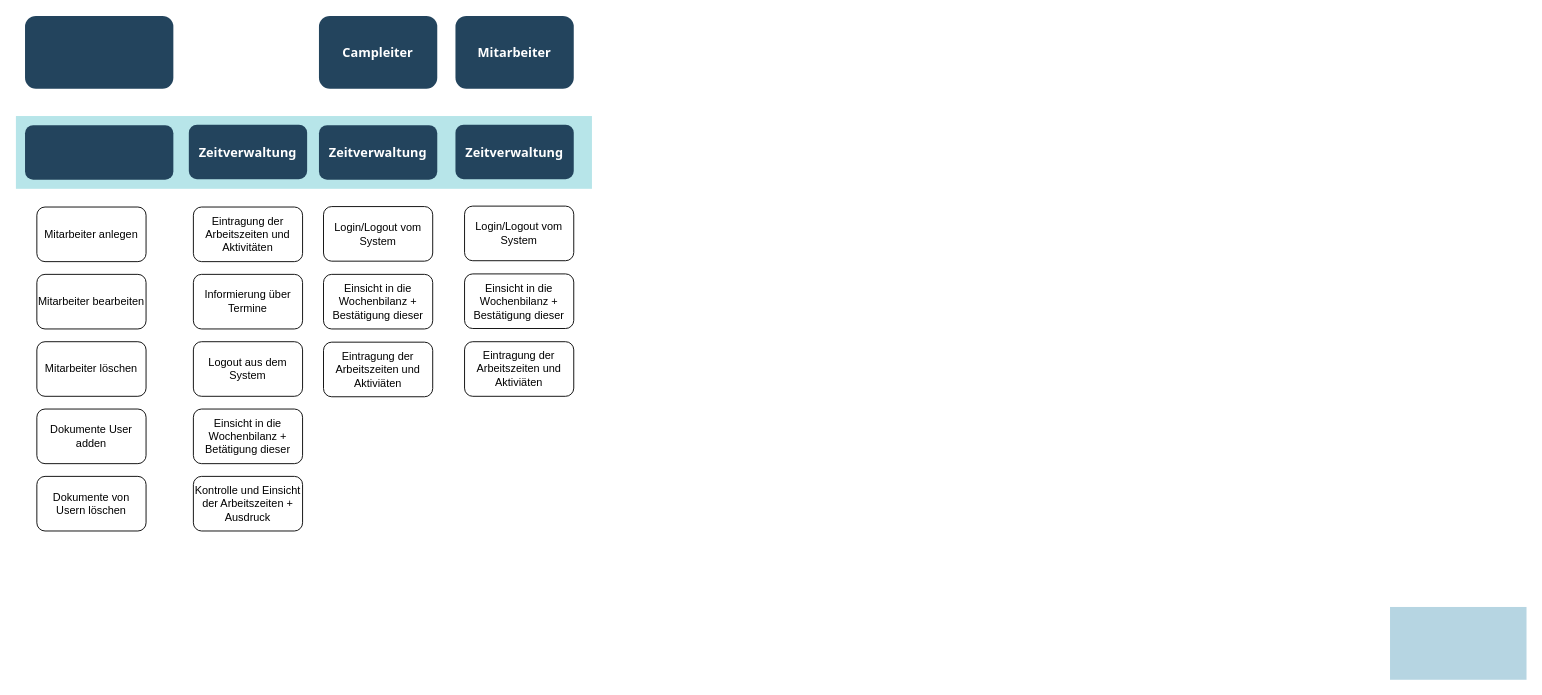
This 1542x695 diagram has some shape labels left out. Here are the shapes that lost their labels. From the top down, the box of each, then its label:
(25, 15, 173, 88): Admin
(25, 125, 173, 179): Mitarbeiterverwaltung
